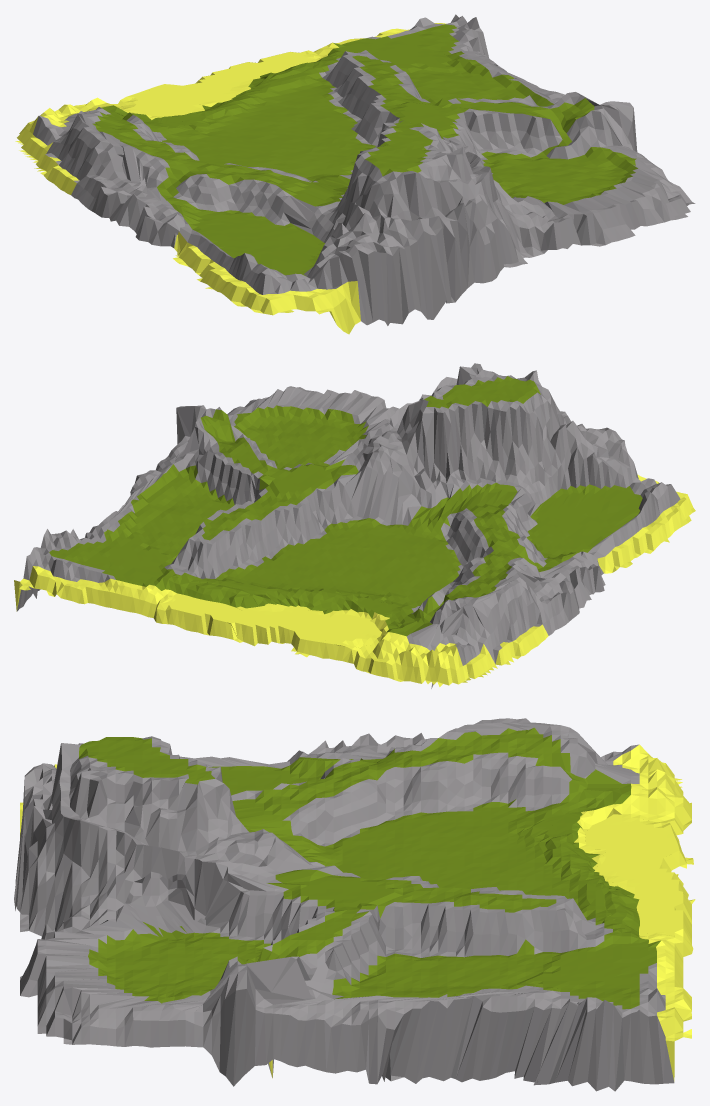
The model's file is Terrain.fbx.
3 renders of one model, top to bottom at view 1: azimuth 30°, elevation 25°; view 2: azimuth 150°, elevation 25°; view 3: azimuth 270°, elevation 25°, orthographic. The views are drawn at different scales.
Visible parts, largest first — view 1: Plane; view 2: Plane; view 3: Plane.
Part boxes in pixels (box(x1,y1,x2,y2)): Plane: box(15, 14, 695, 334); Plane: box(14, 363, 695, 688); Plane: box(14, 718, 695, 1091).
Size of the model in its own units: 3106 by 892 by 3091.
